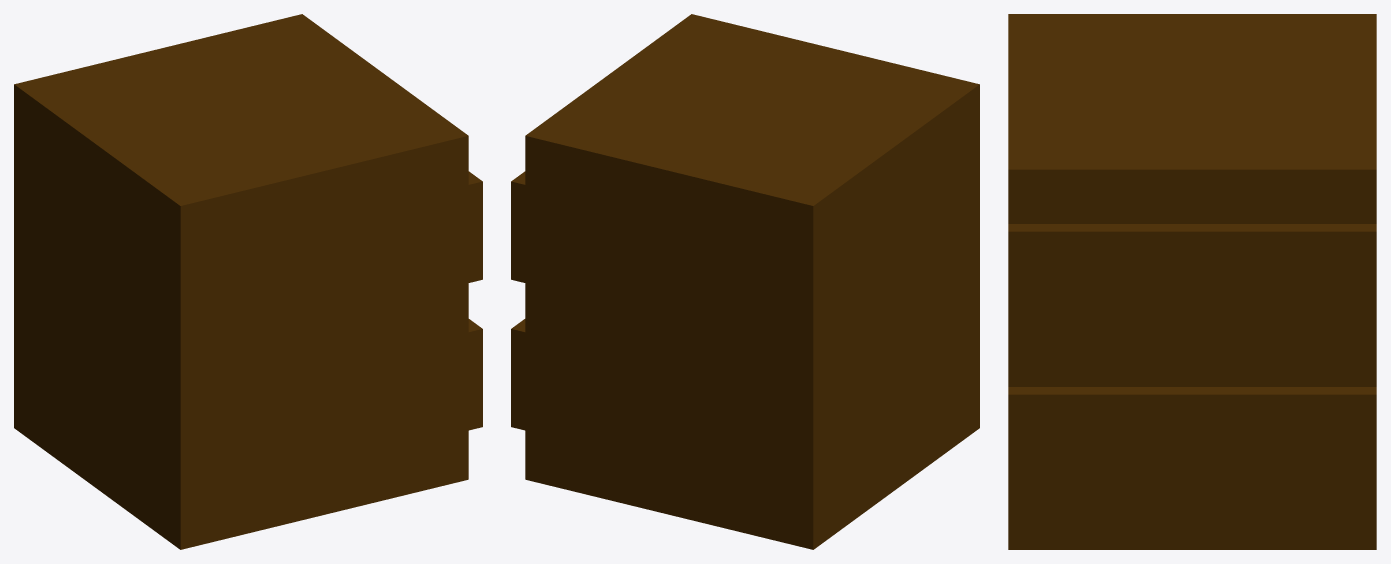
File: tumbochka.fbx
The picture shows the model from 3 angles, left to right: view 1: azimuth 30°, elevation 25°; view 2: azimuth 150°, elevation 25°; view 3: azimuth 270°, elevation 25°; orthographic projection. The views are drawn at different scales.
Parts seen in each view (by area): view 1: Куб; view 2: Куб; view 3: Куб.
Part boxes in pixels (x1,y1,x2,y2): Куб: (14,14,482,549); Куб: (511,14,979,549); Куб: (1008,14,1376,549).
Bounding box in the file's own units: 184 × 200 × 175.
